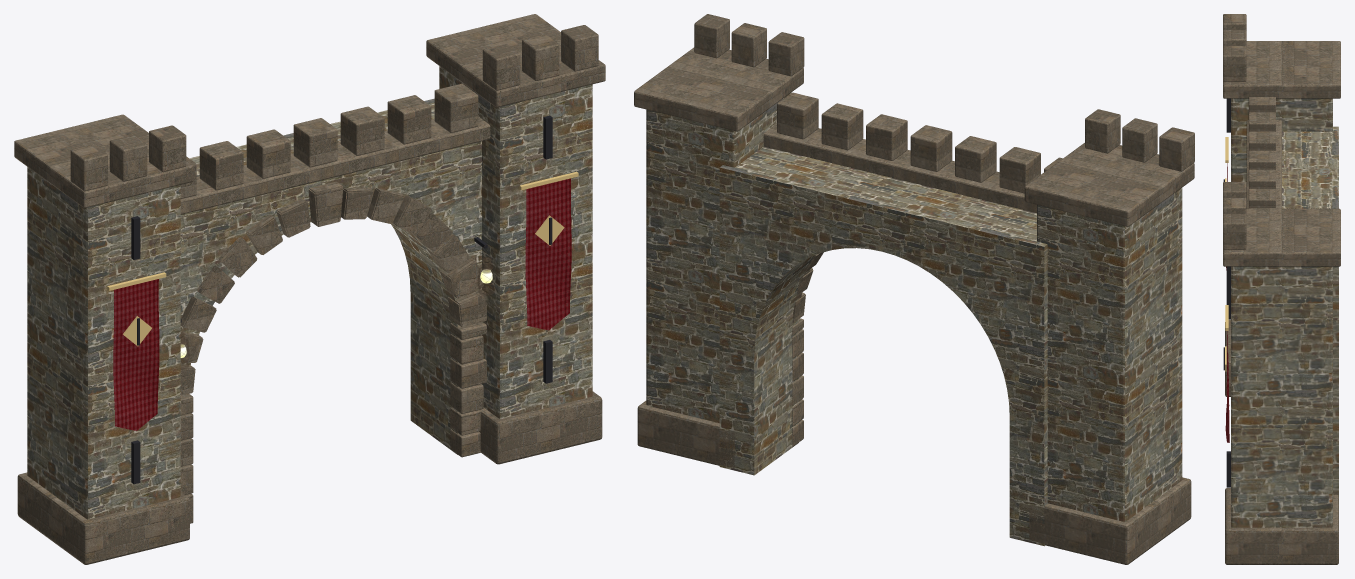
The model's file is fachada_02.glb.
3 renders of one model, left to right at view 1: azimuth 30°, elevation 25°; view 2: azimuth 150°, elevation 25°; view 3: azimuth 270°, elevation 25°, orthographic. The views are drawn at different scales.
Parts seen in each view (by area): view 1: F02_torre-1, F02_torre1, F02_muralha, F02_base-1, F02_coroa-1, F02_coroa1, F02_cornija, F02_estandarte1, F02_estandarte-1, F02_base1, F02_ameia_5, F02_ameia_6 (+26 smaller); view 2: F02_muralha, F02_torre-1, F02_torre1, F02_coroa-1, F02_coroa1, F02_base-1, F02_cornija, F02_base1, F02_ameia_5, F02_ameia_3, F02_ameia_2, F02_ameia_4 (+8 smaller); view 3: F02_torre1, F02_coroa1, F02_coroa-1, F02_muralha, F02_base1, F02_torre-1, F02_tameia1_2, F02_tameia-1_2, F02_cornija, F02_ameia_1, F02_ameia_2, F02_ameia_3 (+12 smaller).
Part boxes in pixels (left/top/right/bottom): F02_torre-1: left=27, top=167, right=180, bottom=519; F02_torre1: left=439, top=66, right=592, bottom=418; F02_muralha: left=180, top=98, right=481, bottom=454; F02_base-1: left=17, top=472, right=189, bottom=564; F02_coroa-1: left=14, top=114, right=193, bottom=207; F02_coroa1: left=426, top=14, right=605, bottom=107; F02_cornija: left=180, top=116, right=490, bottom=214; F02_estandarte1: left=525, top=178, right=571, bottom=330; F02_estandarte-1: left=113, top=279, right=159, bottom=430; F02_base1: left=479, top=391, right=602, bottom=464; F02_ameia_5: left=387, top=95, right=431, bottom=144; F02_ameia_6: left=434, top=83, right=478, bottom=132; F02_muralha: left=719, top=146, right=1047, bottom=546; F02_torre-1: left=1037, top=188, right=1182, bottom=521; F02_torre1: left=646, top=92, right=791, bottom=422; F02_coroa-1: left=1024, top=143, right=1194, bottom=226; F02_coroa1: left=634, top=47, right=803, bottom=131; F02_base-1: left=1029, top=477, right=1191, bottom=564; F02_cornija: left=763, top=124, right=1036, bottom=212; F02_base1: left=637, top=401, right=734, bottom=467; F02_ameia_5: left=821, top=103, right=863, bottom=150; F02_ameia_3: left=910, top=125, right=952, bottom=171; F02_ameia_2: left=955, top=136, right=996, bottom=182; F02_ameia_4: left=866, top=114, right=907, bottom=160; F02_torre1: left=1231, top=266, right=1332, bottom=527; F02_coroa1: left=1223, top=208, right=1340, bottom=266; F02_coroa-1: left=1223, top=41, right=1340, bottom=98; F02_muralha: left=1282, top=126, right=1338, bottom=495; F02_base1: left=1225, top=488, right=1338, bottom=564; F02_torre-1: left=1231, top=98, right=1332, bottom=182; F02_tameia1_2: left=1223, top=213, right=1246, bottom=249; F02_tameia-1_2: left=1223, top=46, right=1246, bottom=81; F02_cornija: left=1246, top=120, right=1281, bottom=208; F02_ameia_1: left=1248, top=112, right=1275, bottom=131; F02_ameia_2: left=1248, top=131, right=1275, bottom=150; F02_ameia_3: left=1248, top=150, right=1275, bottom=169.
Size of the model in its own units: 12.8 by 9.55 by 3.
7 materials, 4 textured.
